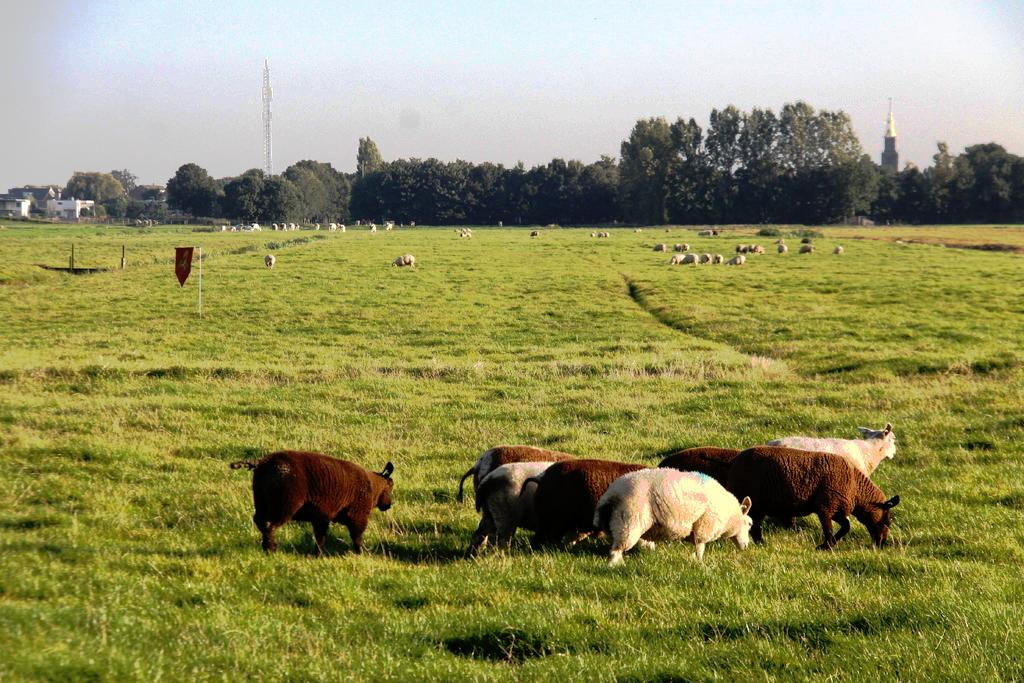Sheep: (592, 467, 764, 566), (742, 449, 903, 550), (251, 451, 392, 552), (523, 455, 665, 555), (455, 441, 592, 529), (470, 462, 598, 543), (777, 421, 910, 480), (650, 443, 760, 506)
